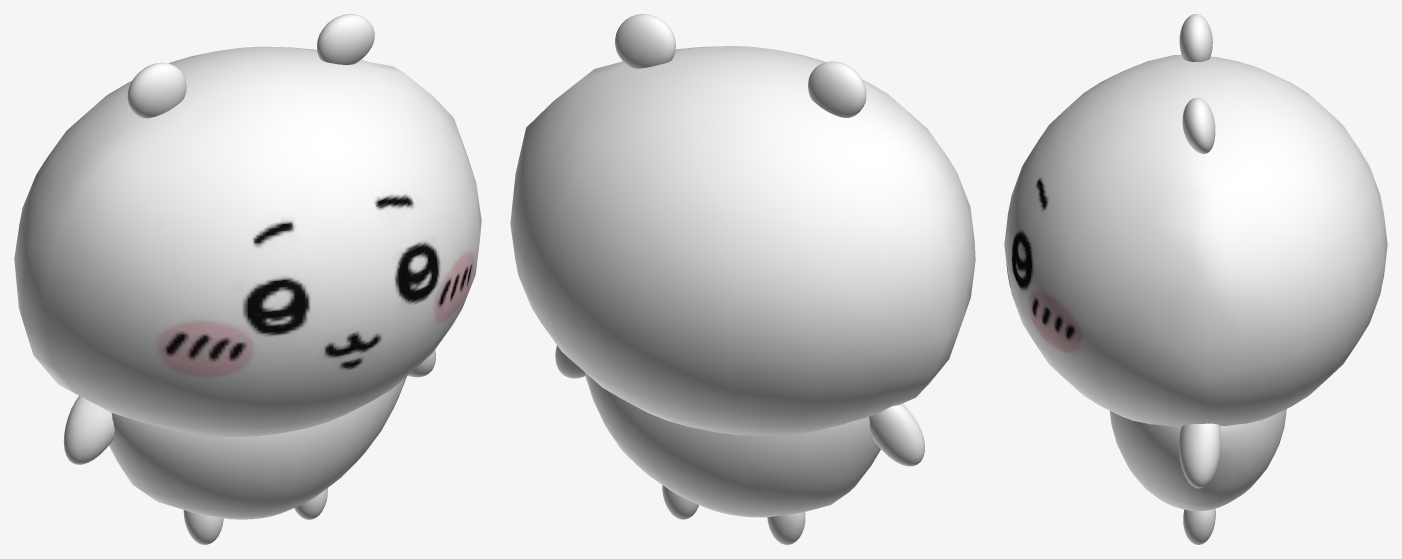
The model's file is chiikawa.glb.
3 views of the same model, side by side, from view 1: azimuth 30°, elevation 25°; view 2: azimuth 150°, elevation 25°; view 3: azimuth 270°, elevation 25° (orthographic). The views are drawn at different scales.
Parts seen in each view (by area): view 1: Sphere_Material.001_0; view 2: Sphere_Material.001_0; view 3: Sphere_Material.001_0.
Boxes of the visible parts, x1=… form: Sphere_Material.001_0: x1=14, y1=14, x2=481, y2=544; Sphere_Material.001_0: x1=510, y1=14, x2=975, y2=544; Sphere_Material.001_0: x1=1004, y1=14, x2=1387, y2=544.
Size of the model in its own units: 3.22 by 3.52 by 2.66.
1 material, 1 textured.
